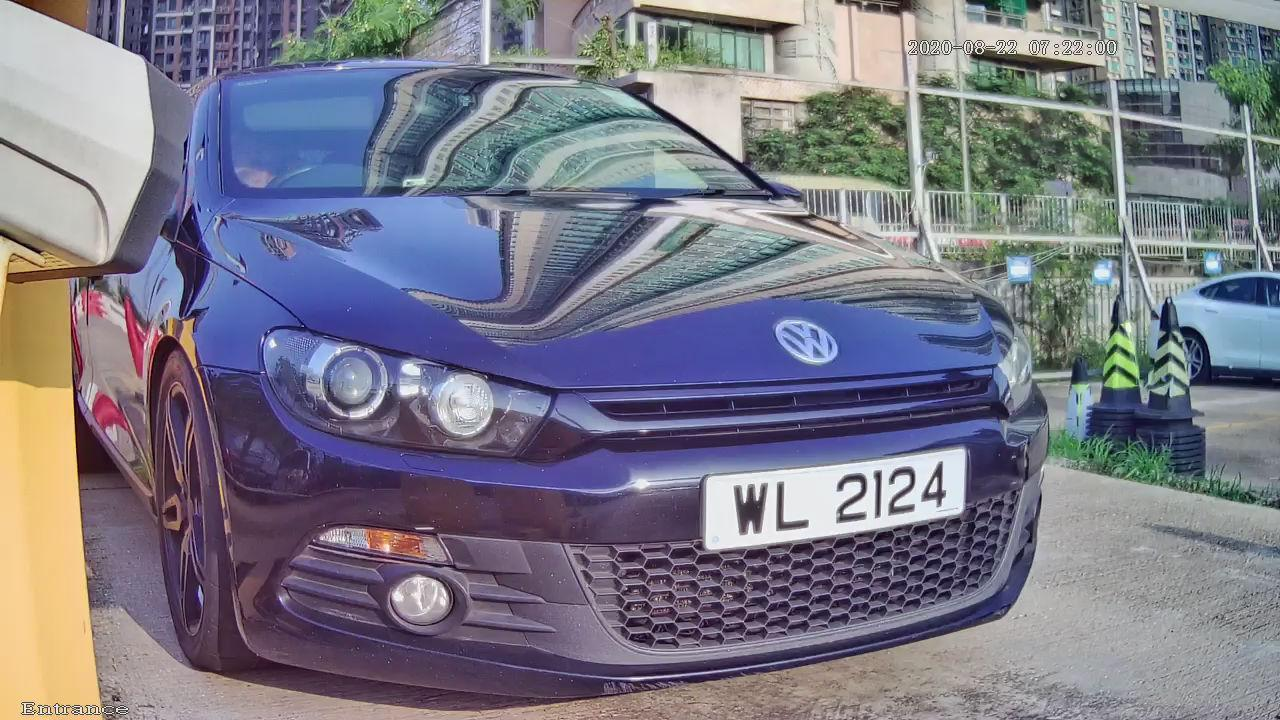Car: (69, 10, 1103, 688)
License Plate: (680, 417, 1013, 574)
